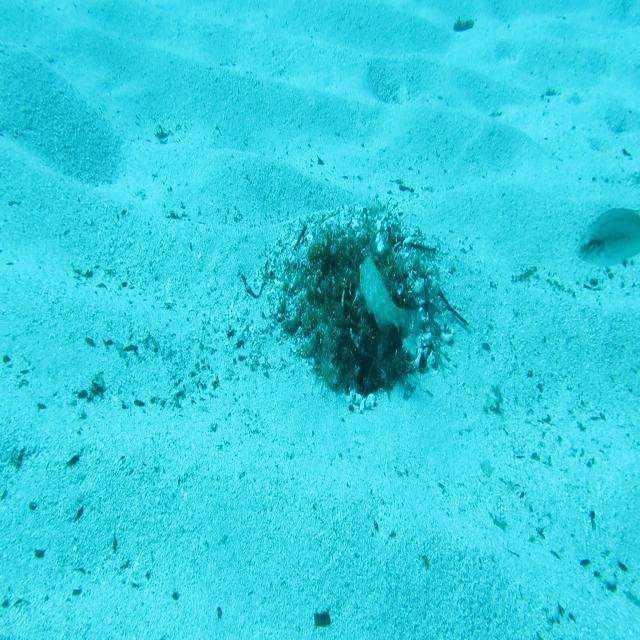FAN: (357, 255, 426, 361)
core_nest: (331, 245, 375, 290)
female: (571, 205, 640, 270)
nest: (262, 190, 458, 428)
vegetation: (450, 16, 477, 34), (313, 610, 333, 628)
